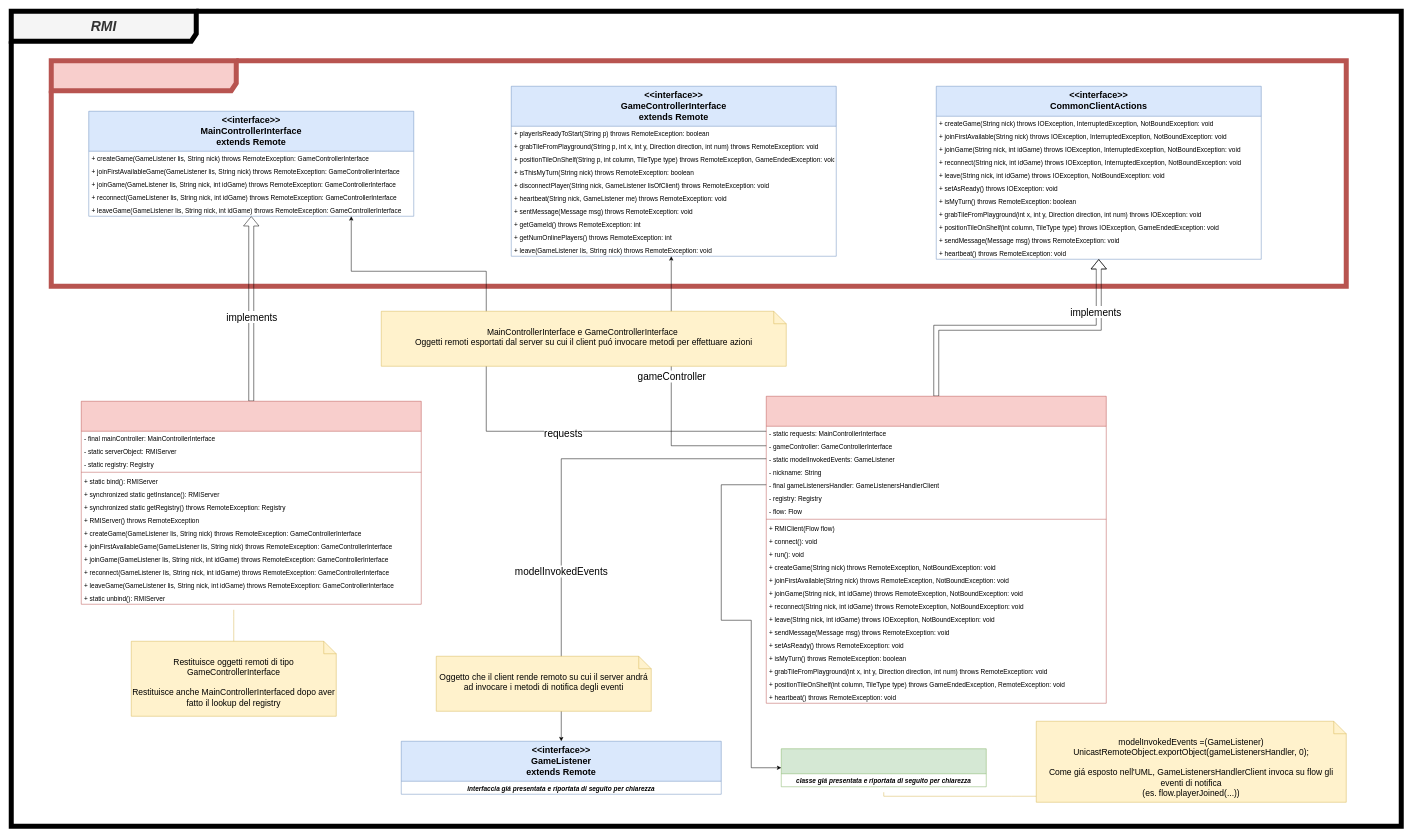
Some shapes in this 1412 by 837 pixel diagram are drawn without their labels. Here are the shapes that lost their labels. From the top down, the box of each, then its label:
(48, 58, 1348, 288): RemoteInterfaces
(81, 401, 421, 604): RMIServer extends UnicastRemoteObject
(766, 396, 1106, 703): RMIClient implements Runnable
(781, 748, 986, 787): GameListenersHandlerClient implements GameListener
